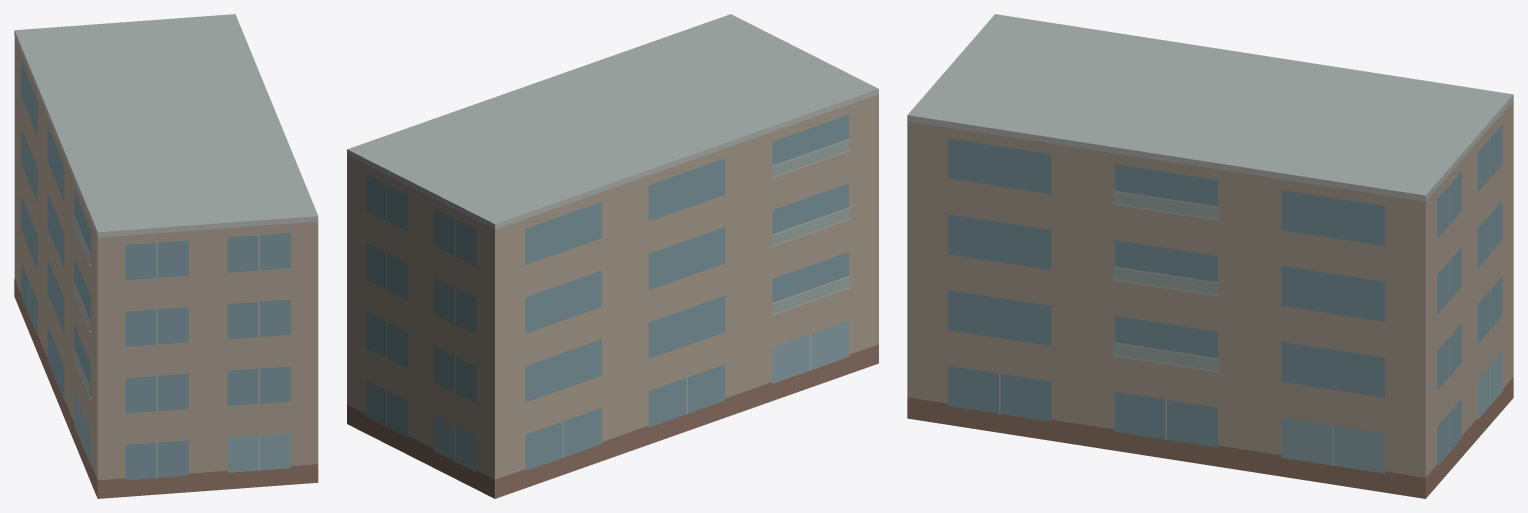
Rendered from residential-de7c944b-87d6-4943-b218-34e7920d6c92.glb.
3 views of the same model, side by side, from view 1: azimuth 30°, elevation 25°; view 2: azimuth 150°, elevation 25°; view 3: azimuth 270°, elevation 25° (orthographic). The views are drawn at different scales.
Parts seen in each view (by area): view 1: residential-de7c944b-87d6-4943-b218-34e7920d6c92.tmp; view 2: residential-de7c944b-87d6-4943-b218-34e7920d6c92.tmp; view 3: residential-de7c944b-87d6-4943-b218-34e7920d6c92.tmp.
Boxes of the visible parts, bbox=[...] form: residential-de7c944b-87d6-4943-b218-34e7920d6c92.tmp: bbox=[14, 14, 318, 498]; residential-de7c944b-87d6-4943-b218-34e7920d6c92.tmp: bbox=[347, 14, 878, 498]; residential-de7c944b-87d6-4943-b218-34e7920d6c92.tmp: bbox=[907, 14, 1513, 498].
Bounding box in the file's own units: 15.67 × 12.2 × 22.11.
